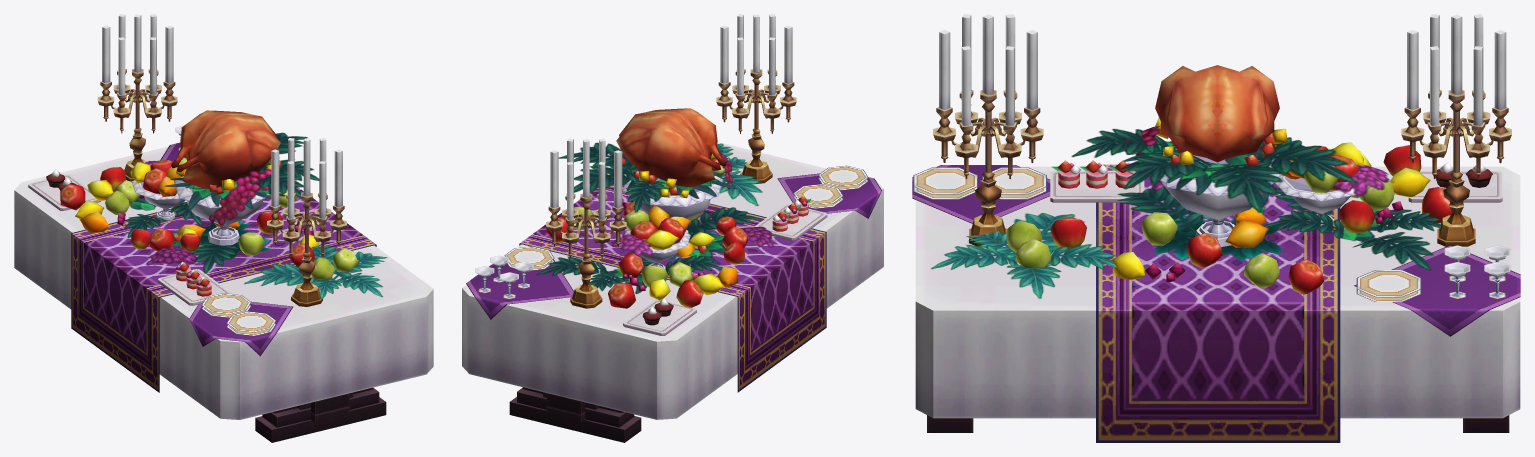
Rendered from my_gehennaparty_01_table_04.glb.
3 renders of one model, left to right at view 1: azimuth 30°, elevation 25°; view 2: azimuth 150°, elevation 25°; view 3: azimuth 270°, elevation 25°, orthographic. The views are drawn at different scales.
Visible parts, largest first — view 1: my_gehennaparty_01_table_04; view 2: my_gehennaparty_01_table_04; view 3: my_gehennaparty_01_table_04.
Part boxes in pixels (x1,y1,x2,y2): my_gehennaparty_01_table_04: (14,14,433,442); my_gehennaparty_01_table_04: (462,14,883,442); my_gehennaparty_01_table_04: (912,14,1520,442).
Bounding box in the file's own units: 0.00785 × 0.00943 × 0.0138.
2 materials, 2 textured.
